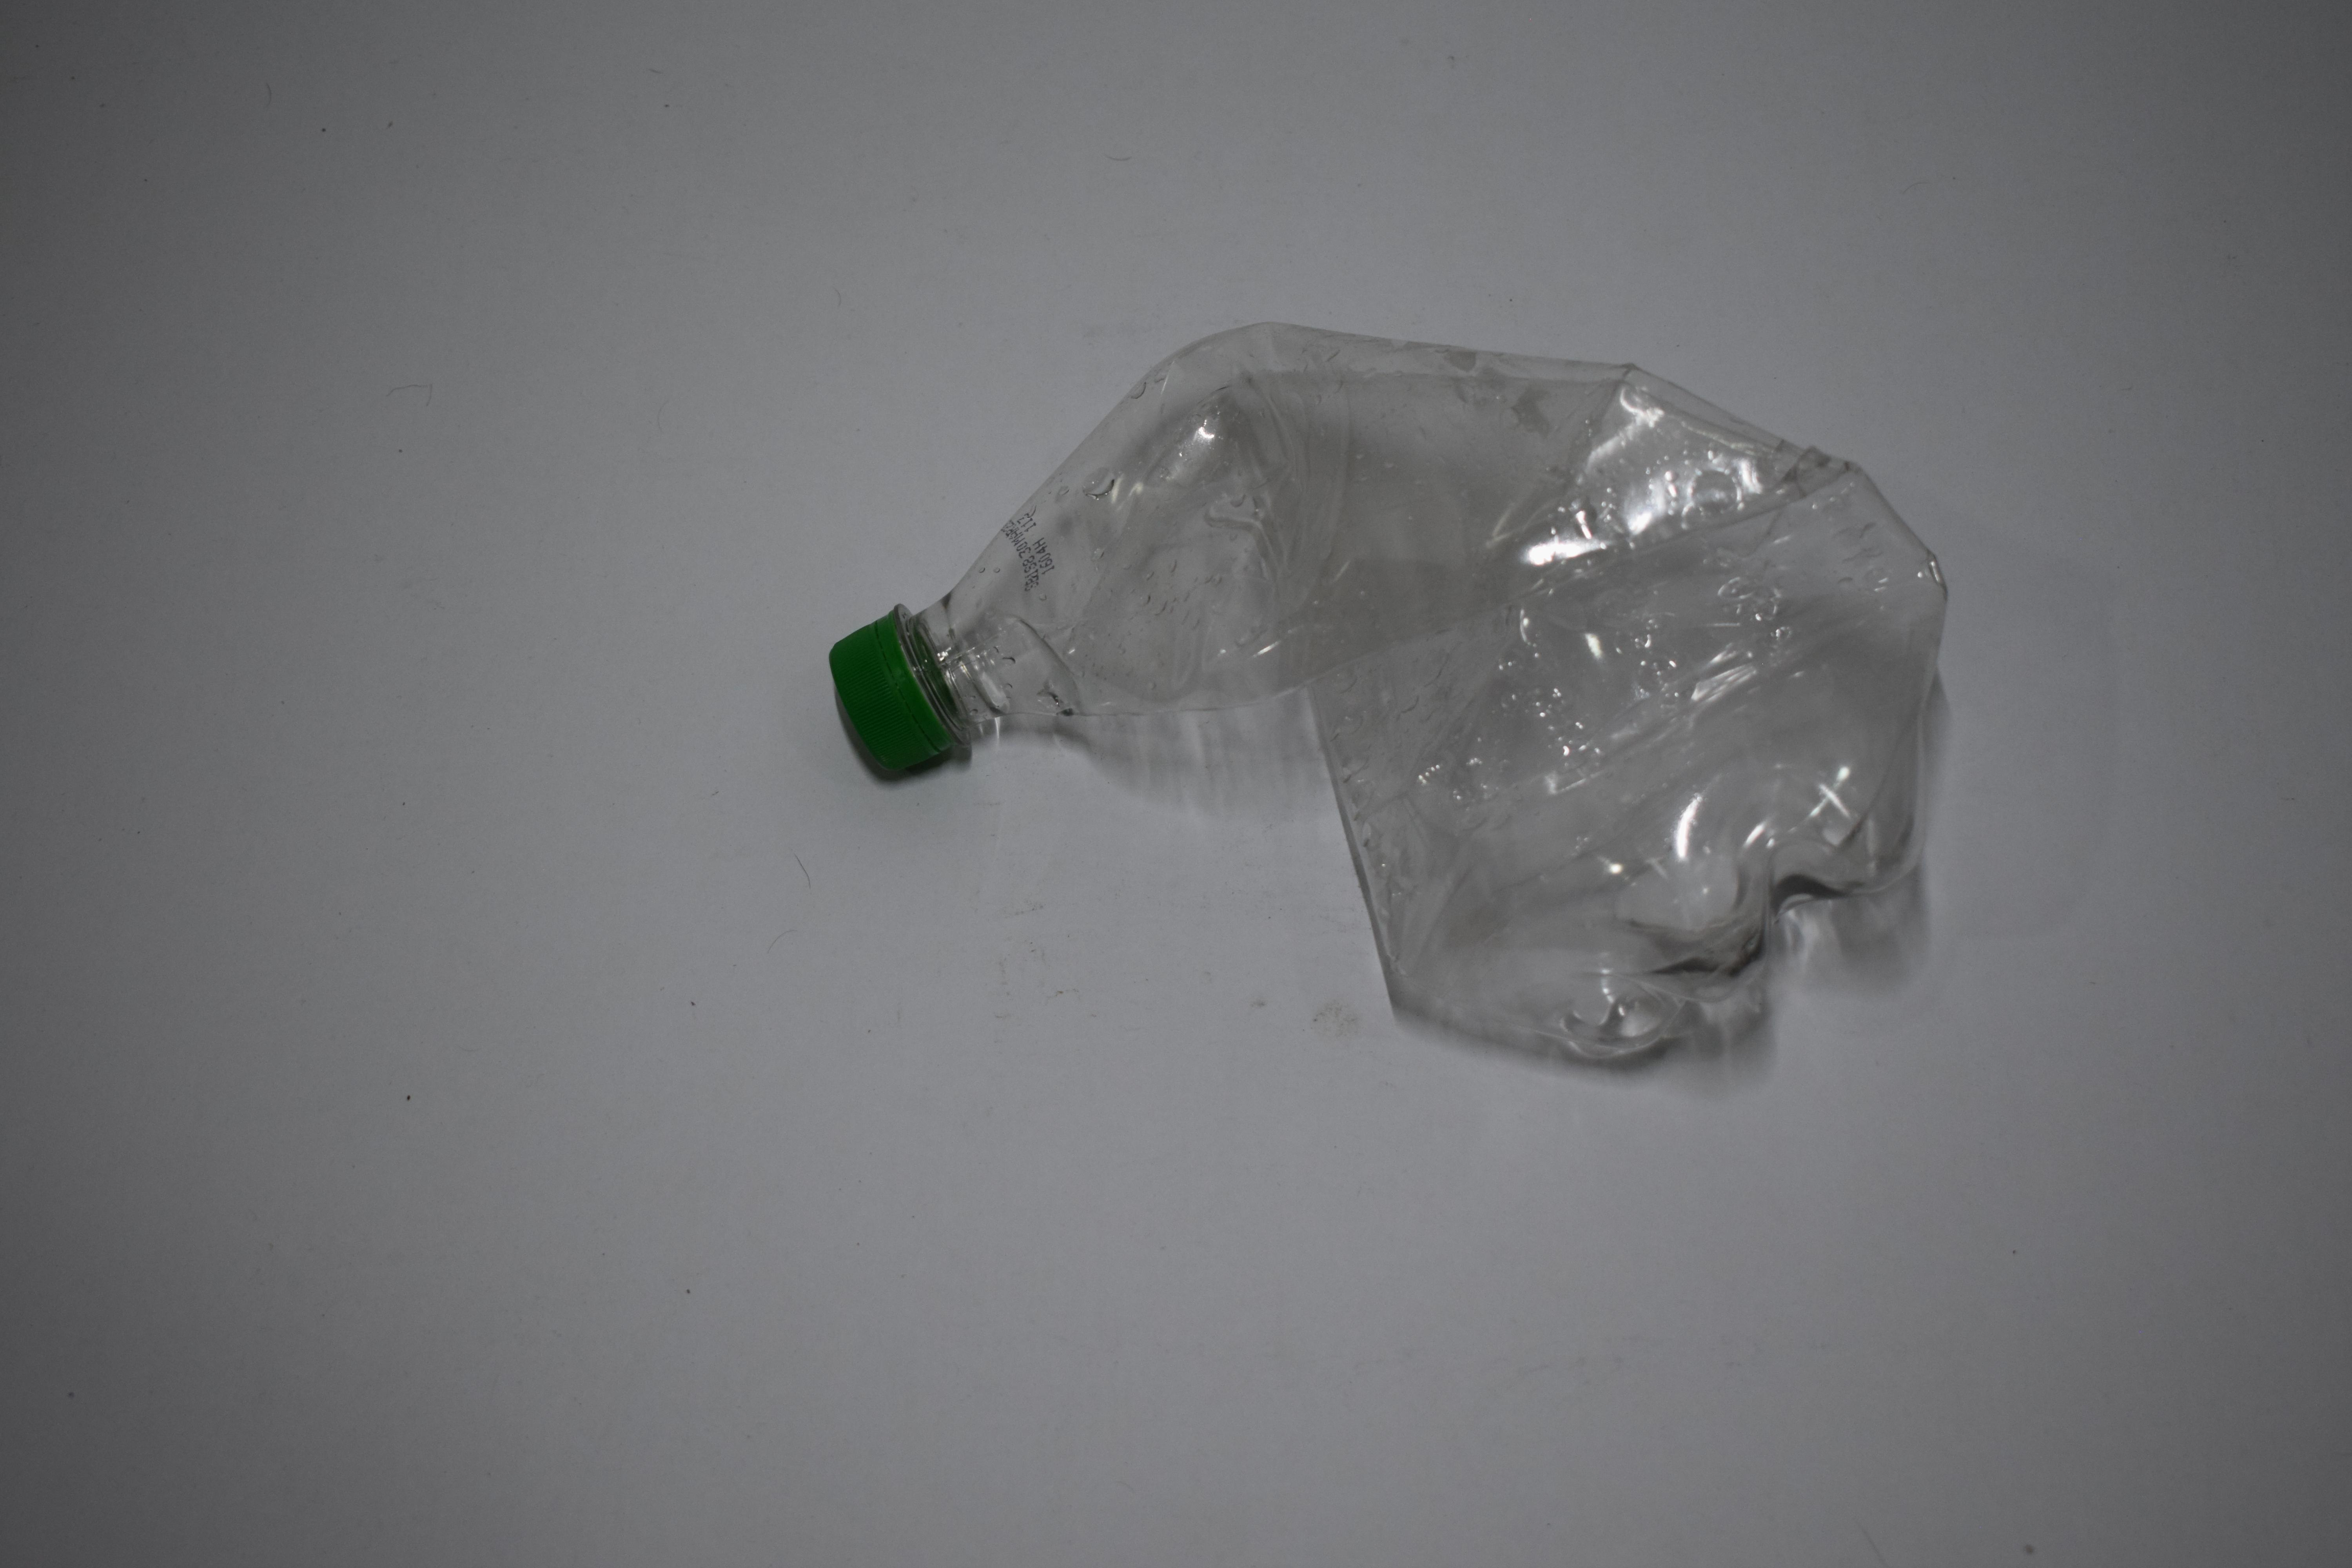bottle: (0, 310, 781, 1081)
